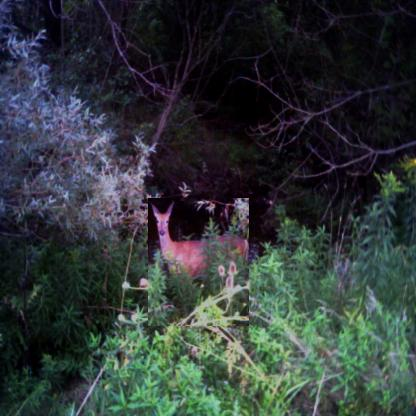Deer: (148, 198, 249, 326)
